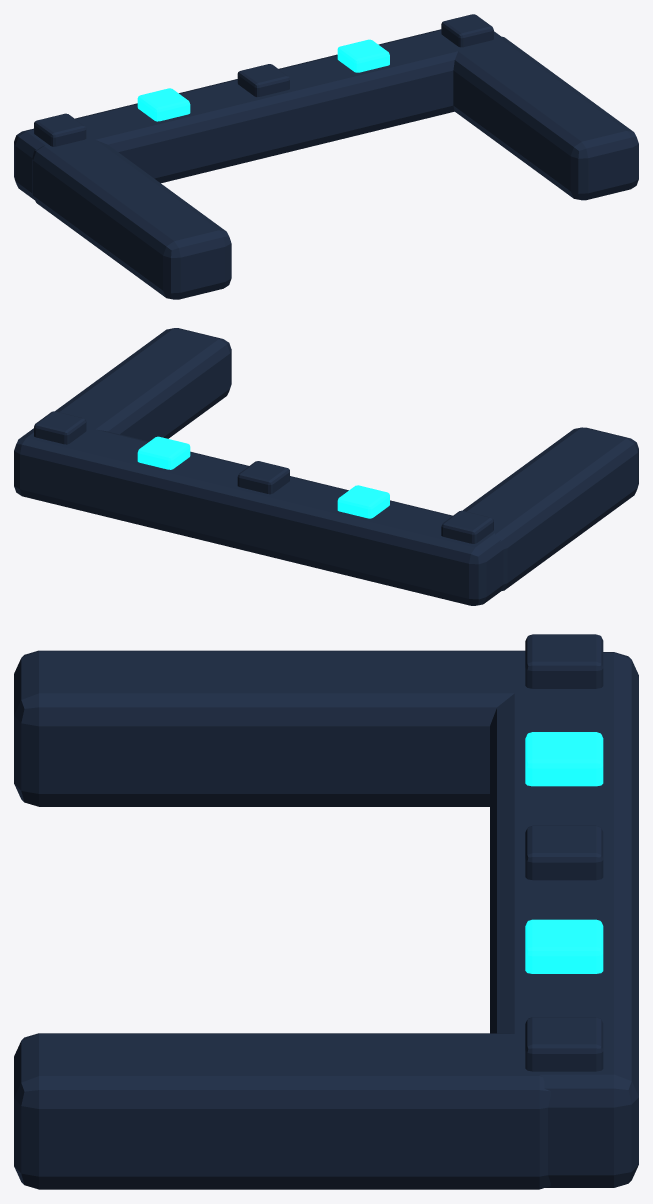
File: NeonGate.fbx
3 renders of one model, top to bottom at view 1: azimuth 30°, elevation 25°; view 2: azimuth 150°, elevation 25°; view 3: azimuth 270°, elevation 25°, orthographic. The views are drawn at different scales.
Visible parts, largest first — view 1: Top, Left, Right, Fracture_01, Fracture_03, Fracture_00, Fracture_04, Fracture_02; view 2: Top, Left, Right, Fracture_03, Fracture_01, Fracture_04, Fracture_00, Fracture_02; view 3: Right, Left, Top, Fracture_02, Fracture_00, Fracture_04, Fracture_01, Fracture_03.
Part boxes in pixels (x1,y1,x2,y2): Top: (14, 29, 500, 199); Left: (32, 135, 231, 299); Right: (452, 35, 638, 200); Fracture_01: (137, 88, 190, 121); Fracture_03: (337, 39, 389, 72); Fracture_00: (34, 113, 86, 146); Fracture_04: (441, 14, 493, 47); Fracture_02: (237, 64, 289, 96); Top: (14, 427, 503, 605); Left: (463, 427, 638, 591); Right: (55, 328, 231, 441); Fracture_03: (137, 436, 190, 469); Fracture_01: (337, 485, 389, 518); Fracture_04: (34, 411, 86, 444); Fracture_00: (441, 510, 493, 543); Fracture_02: (237, 461, 289, 494); Right: (14, 1033, 550, 1189); Left: (14, 650, 539, 806); Top: (490, 652, 638, 1187); Fracture_02: (525, 825, 603, 880); Fracture_00: (525, 634, 603, 688); Fracture_04: (525, 1017, 603, 1071); Fracture_01: (525, 732, 603, 786); Fracture_03: (525, 919, 603, 973).
Bounding box in the file's own units: 5.94 × 0.905 × 3.52.
